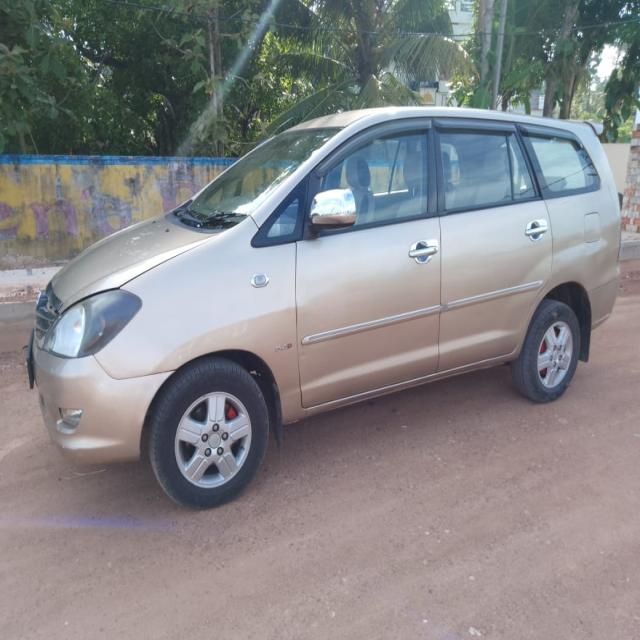light_vehicle: (29, 104, 624, 512)
